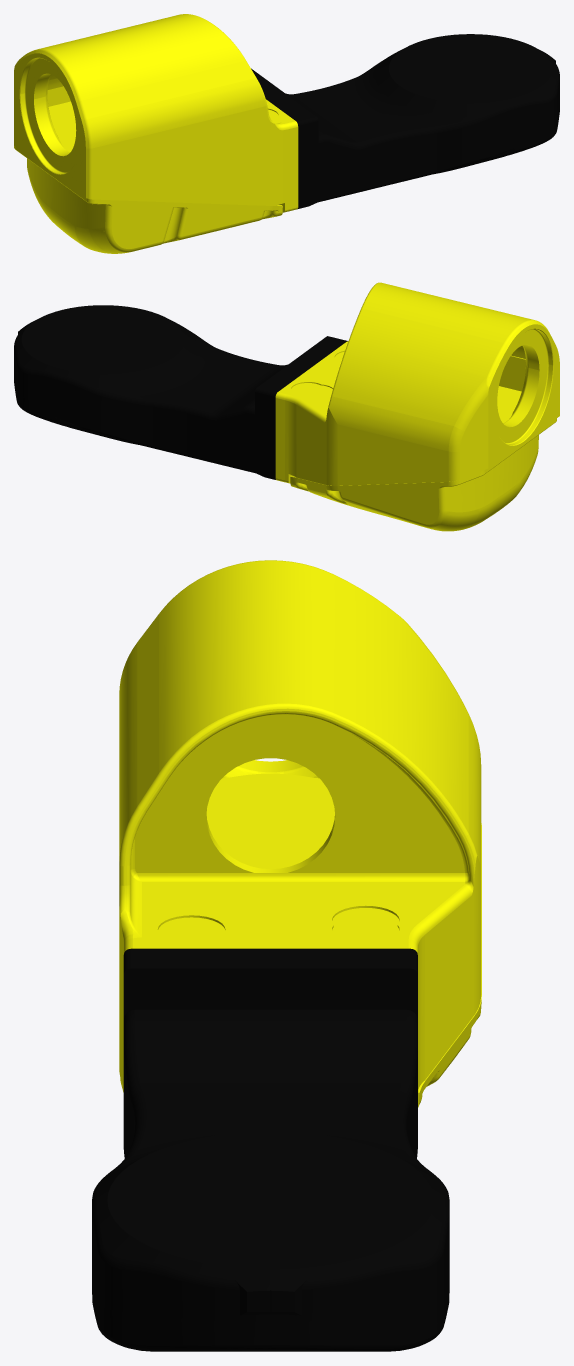
The picture shows the model from 3 angles, top to bottom: view 1: azimuth 30°, elevation 25°; view 2: azimuth 150°, elevation 25°; view 3: azimuth 270°, elevation 25°; orthographic projection. The views are drawn at different scales.
Parts seen in each view (by area): view 1: Mesh_0; view 2: Mesh_0; view 3: Mesh_0.
Part boxes in pixels (x1,y1,x2,y2): Mesh_0: [14, 14, 559, 253]; Mesh_0: [14, 282, 559, 531]; Mesh_0: [92, 560, 481, 1351].
Size of the model in its own units: 0.5103 by 0.1928 by 0.1723.
